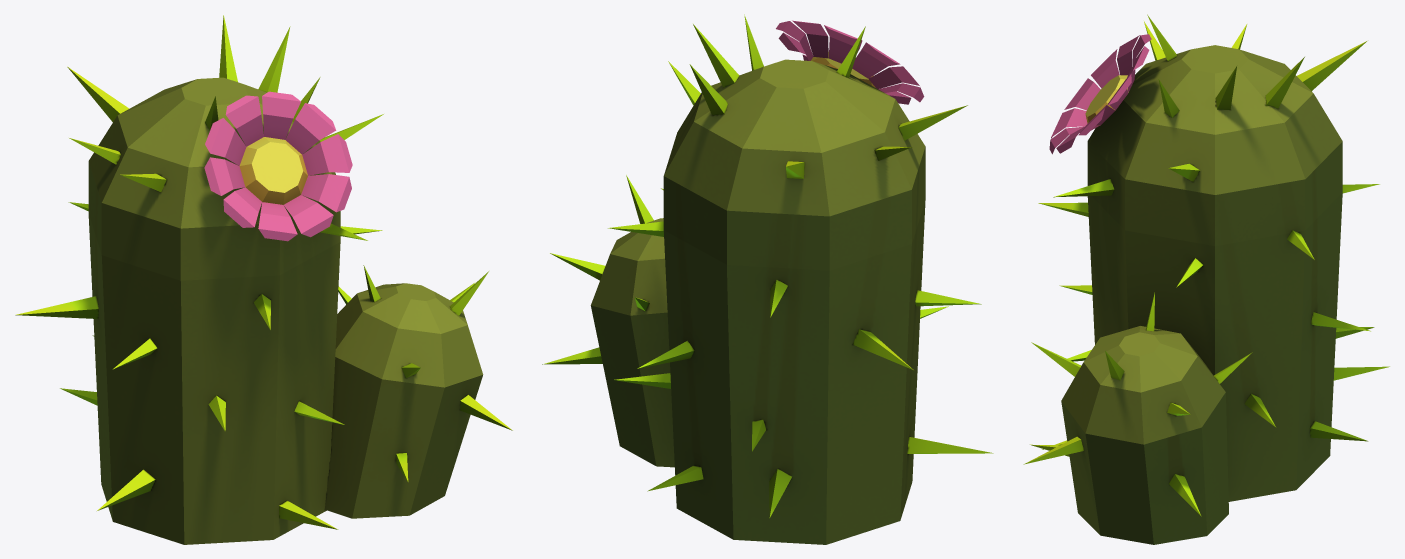
File: modelDraco.gltf
The picture shows the model from 3 angles, left to right: view 1: azimuth 30°, elevation 25°; view 2: azimuth 150°, elevation 25°; view 3: azimuth 270°, elevation 25°; orthographic projection. The views are drawn at different scales.
Parts seen in each view (by area): view 1: node-0; view 2: node-0; view 3: node-0.
Boxes of the visible parts, x1,y1,x2,y2 form: node-0: [15, 15, 512, 544]; node-0: [542, 14, 993, 544]; node-0: [1023, 14, 1389, 544].
Size of the model in its own units: 1.55 by 1.6 by 1.24.
1 material, 1 textured.
